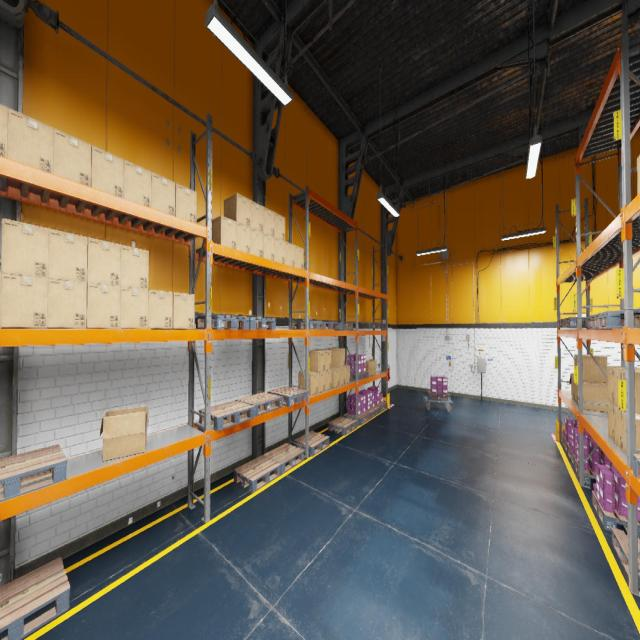box: (8, 108, 54, 173), (1, 218, 49, 278), (100, 406, 148, 461), (0, 273, 48, 328), (53, 128, 91, 187), (43, 278, 87, 328), (48, 229, 87, 282), (91, 145, 124, 198), (87, 237, 120, 286), (86, 283, 120, 328), (124, 160, 151, 208), (607, 366, 640, 405), (120, 245, 149, 289), (162, 292, 195, 329), (120, 286, 148, 328), (614, 368, 640, 413), (151, 172, 175, 216), (148, 289, 173, 329), (574, 354, 607, 382), (578, 381, 607, 412), (224, 193, 250, 227), (176, 182, 197, 223), (212, 215, 236, 249), (622, 412, 640, 456), (574, 380, 604, 405), (298, 370, 318, 396), (0, 104, 8, 158), (237, 222, 250, 253), (251, 200, 263, 232), (309, 349, 325, 372), (250, 228, 263, 256), (615, 407, 623, 452), (315, 349, 331, 370), (263, 206, 274, 236), (328, 348, 345, 367), (263, 232, 274, 260), (608, 401, 615, 444), (275, 212, 285, 241), (274, 237, 284, 264), (285, 241, 294, 267), (295, 245, 303, 269), (366, 359, 377, 375), (337, 366, 345, 386), (636, 155, 640, 194), (318, 371, 325, 392), (332, 367, 339, 387), (325, 369, 331, 391), (570, 372, 574, 394), (346, 364, 350, 384), (0, 272, 1, 328), (572, 376, 574, 401)
pallets: (0, 557, 70, 639), (0, 444, 67, 501), (592, 490, 640, 539), (234, 455, 281, 493), (611, 527, 640, 588), (199, 400, 254, 430), (263, 444, 304, 474), (235, 392, 282, 417), (574, 458, 615, 486), (567, 445, 614, 466), (294, 431, 330, 456), (267, 386, 308, 406), (598, 310, 640, 329), (196, 315, 249, 329), (328, 416, 357, 435), (590, 314, 624, 329), (239, 317, 275, 329), (344, 411, 370, 425), (292, 320, 326, 330), (427, 390, 450, 401), (563, 317, 588, 327), (633, 454, 640, 479), (558, 319, 577, 328), (374, 401, 388, 413), (333, 322, 353, 330), (366, 406, 379, 418), (351, 371, 368, 380), (355, 322, 378, 328), (320, 322, 339, 329), (562, 434, 568, 453), (586, 317, 590, 329), (379, 323, 386, 328)
